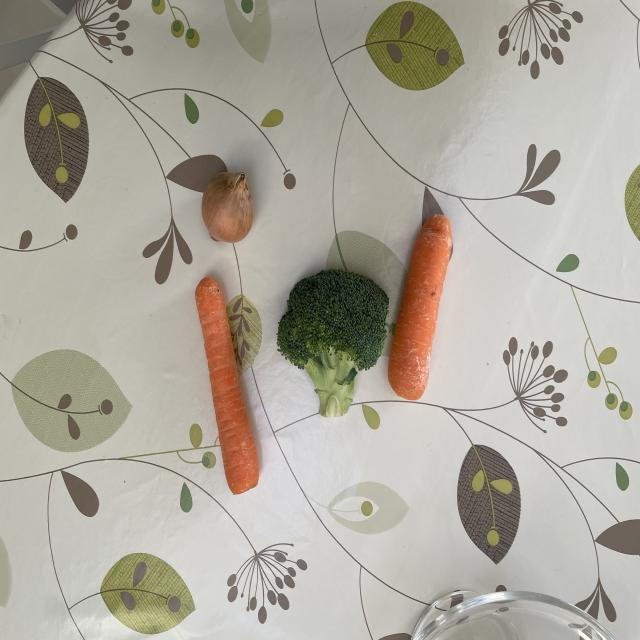Broccoli: (275, 267, 392, 417)
Carrot: (195, 274, 262, 496), (386, 211, 454, 402)
Onion: (201, 169, 255, 245)
